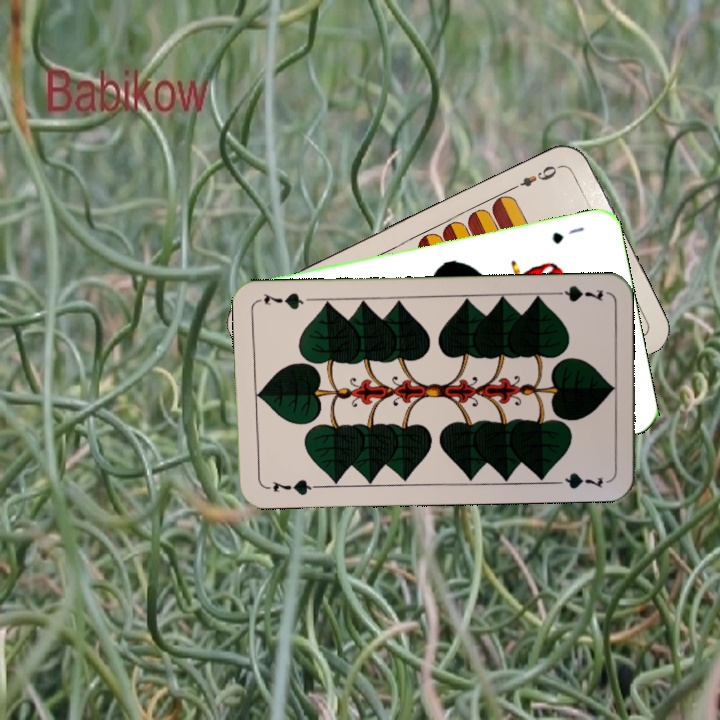E9: (509, 160, 565, 192)
G7: (547, 281, 605, 305), (261, 475, 320, 498)
GU: (548, 222, 587, 246)
